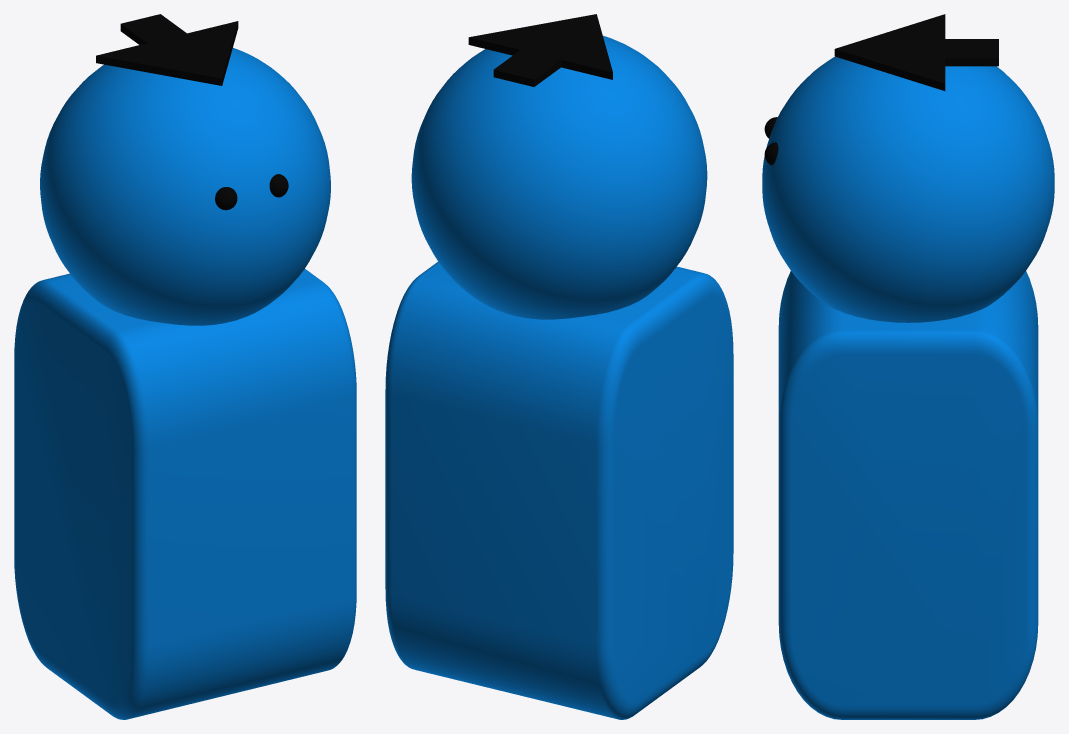
Rendered from 2blue.obj.
3 views of the same model, side by side, from view 1: azimuth 30°, elevation 25°; view 2: azimuth 150°, elevation 25°; view 3: azimuth 270°, elevation 25° (orthographic).
Visible parts, largest first — view 1: Curve.002_Curve.011, Curve.002_Curve.012; view 2: Curve.002_Curve.011, Curve.002_Curve.012; view 3: Curve.002_Curve.011, Curve.002_Curve.012.
Part boxes in pixels (x1,y1,x2,y2): Curve.002_Curve.011: [14, 48, 356, 719]; Curve.002_Curve.012: [96, 14, 288, 210]; Curve.002_Curve.011: [385, 35, 733, 719]; Curve.002_Curve.012: [468, 14, 612, 86]; Curve.002_Curve.011: [762, 56, 1054, 719]; Curve.002_Curve.012: [764, 14, 998, 165].
Bounding box in the file's own units: 0.2062 × 0.4819 × 0.2057.
